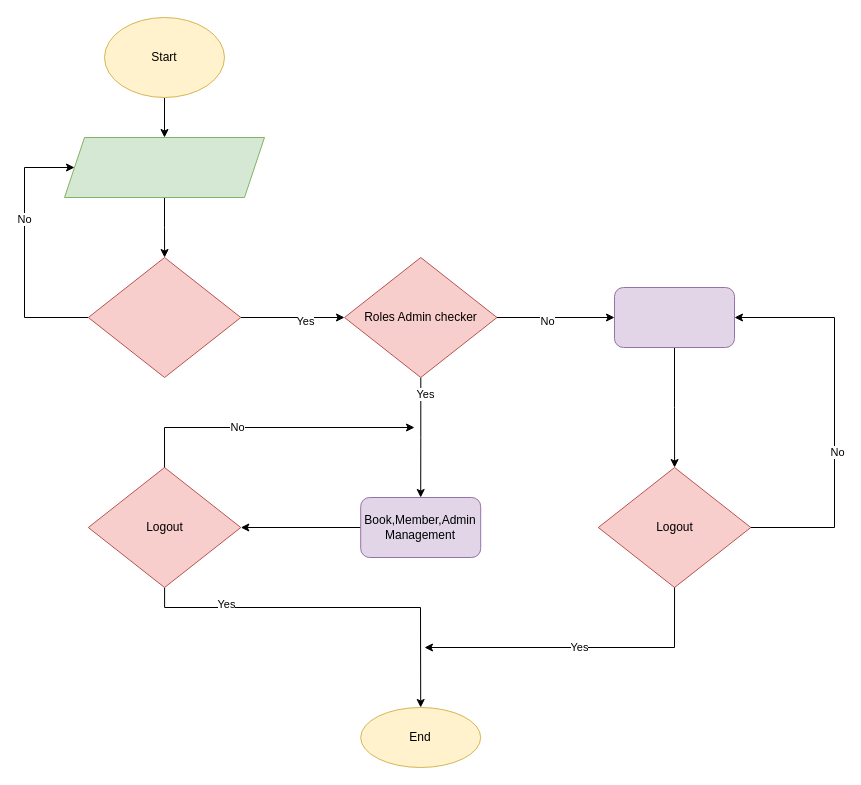
The diagram is 861 pixels wide and 785 high, and some of its shapes have lost their labels. The centre of each missing label's shape, as x and y in pixels:
Be verified: (x=164, y=317)
Borrowing and Returning Book: (x=674, y=317)
Input Username and Password: (x=164, y=167)
